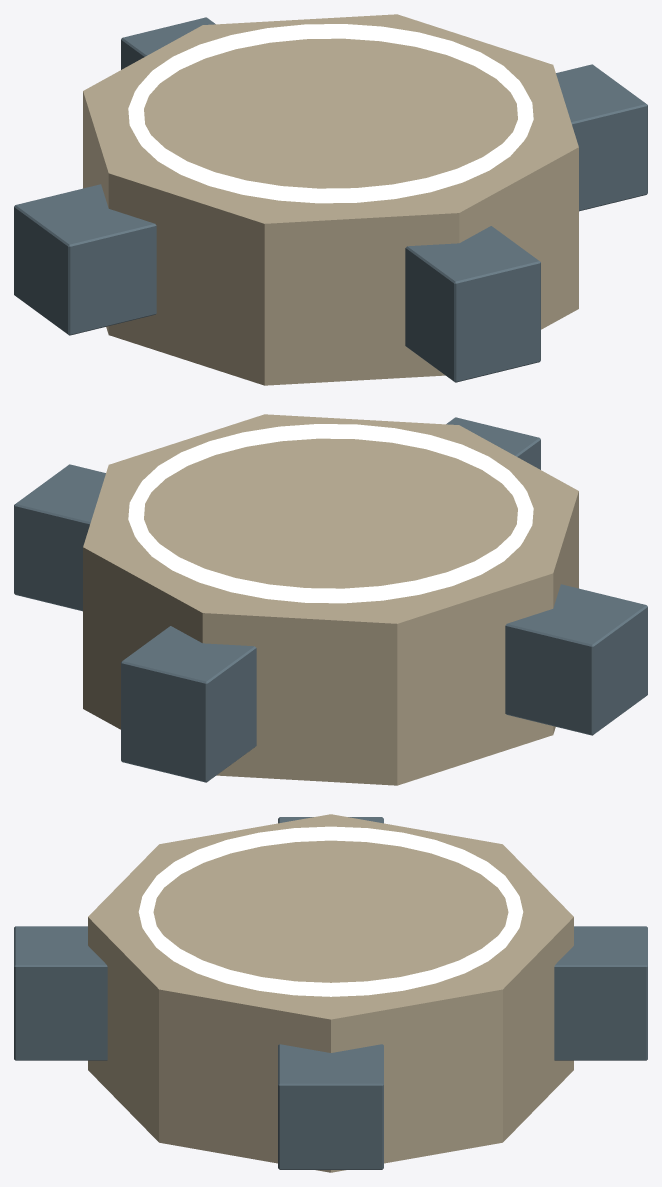
File: space-station-hub.lod0.glb
3 renders of one model, top to bottom at view 1: azimuth 30°, elevation 25°; view 2: azimuth 150°, elevation 25°; view 3: azimuth 270°, elevation 25°, orthographic. The views are drawn at different scales.
Parts seen in each view (by area): view 1: space-station-hub__body; view 2: space-station-hub__body; view 3: space-station-hub__body.
Boxes of the visible parts, x1,y1,x2,y2 form: space-station-hub__body: (14,14,647,385); space-station-hub__body: (14,414,647,785); space-station-hub__body: (14,814,647,1172).
Size of the model in its own units: 6 by 1.71 by 6.
